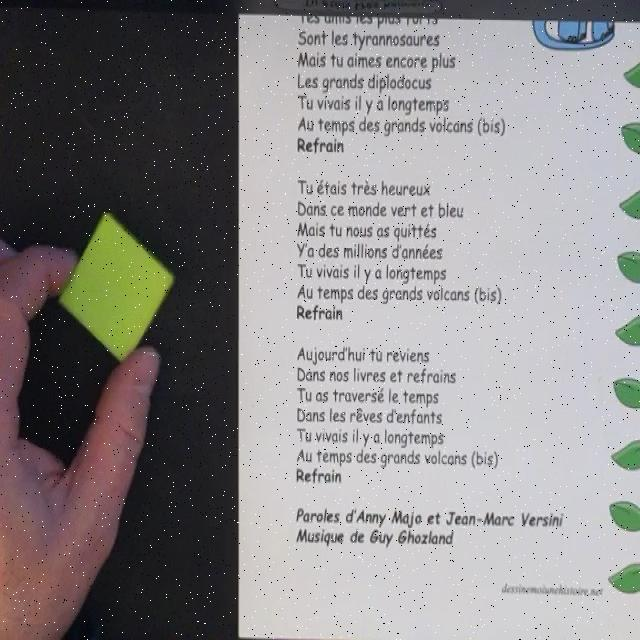square: (58, 212, 175, 366)
